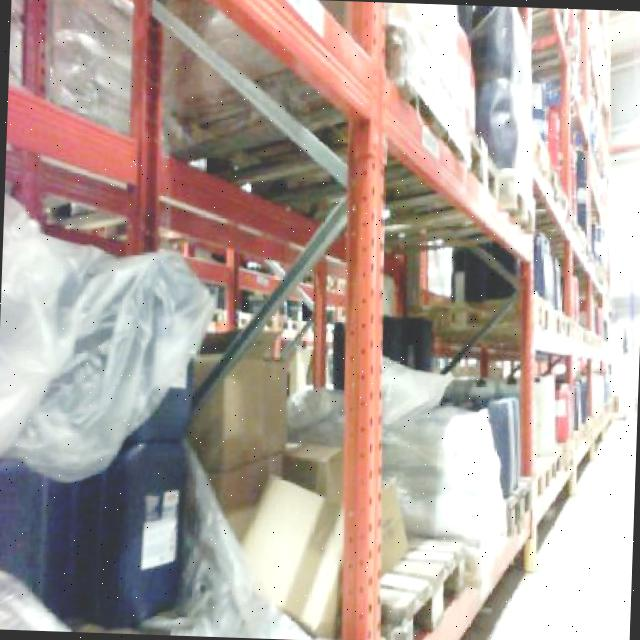ground: (446, 396, 636, 640)
pallet: (232, 463, 470, 640), (375, 533, 468, 640)
